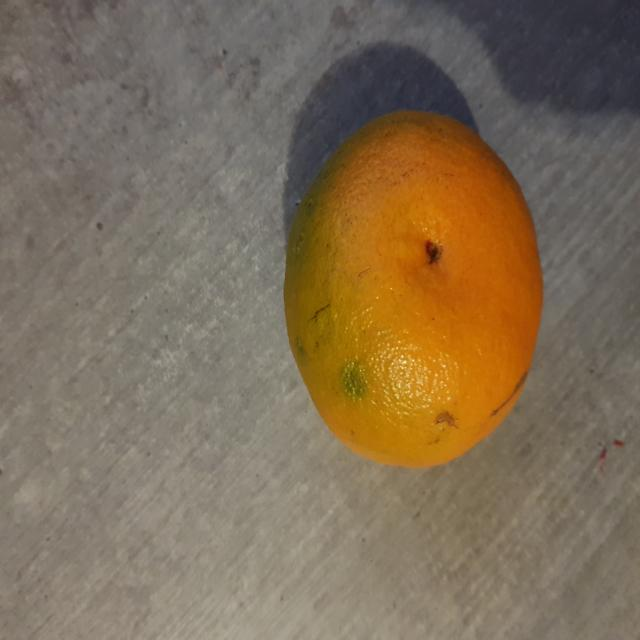Orange: (282, 108, 544, 472)
